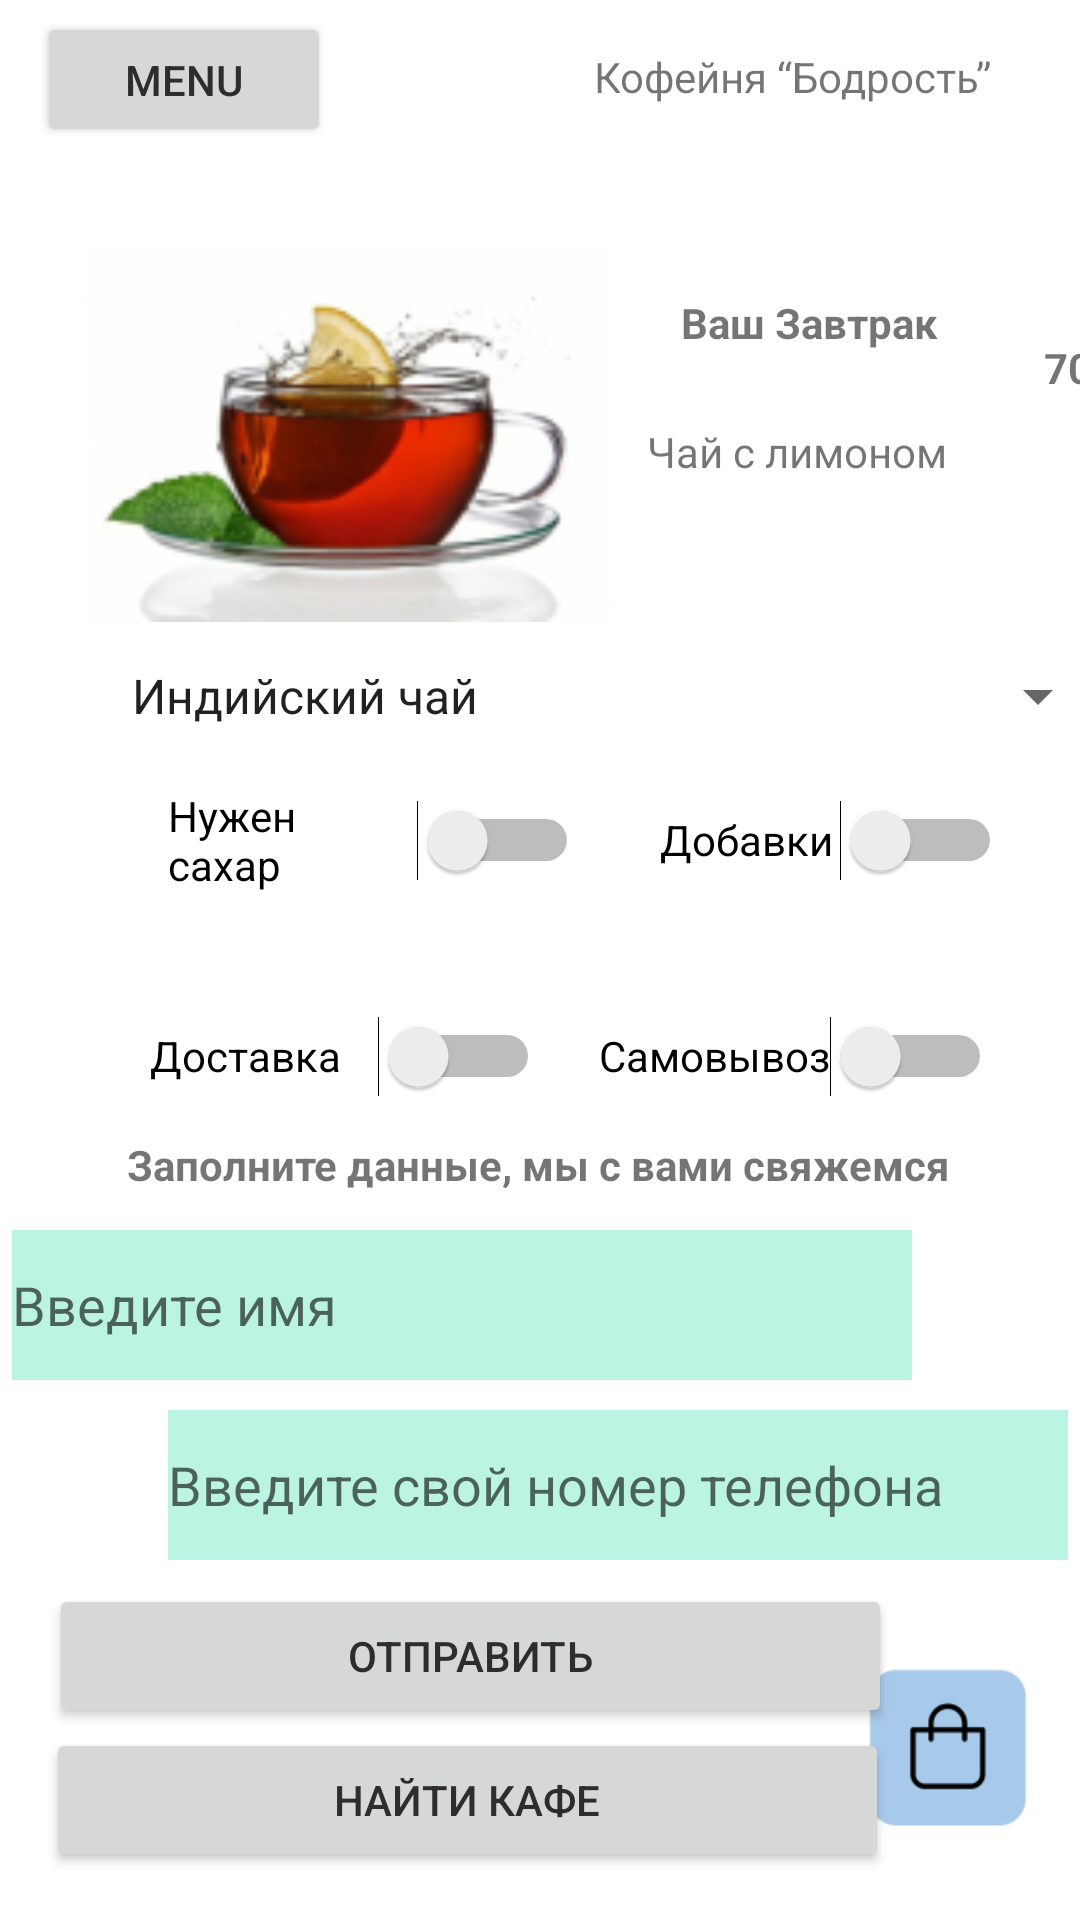

Named icons in this screenshot (1080w x 1920h) and their bounding boxes, (x1, y1, x2, y2):
buttonzakaz: (864, 1668, 1026, 1830)
